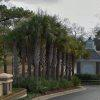Palm tree: (9, 13, 80, 78)
